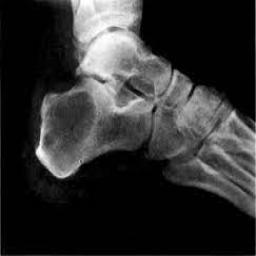cancer: (42, 93, 93, 167)
